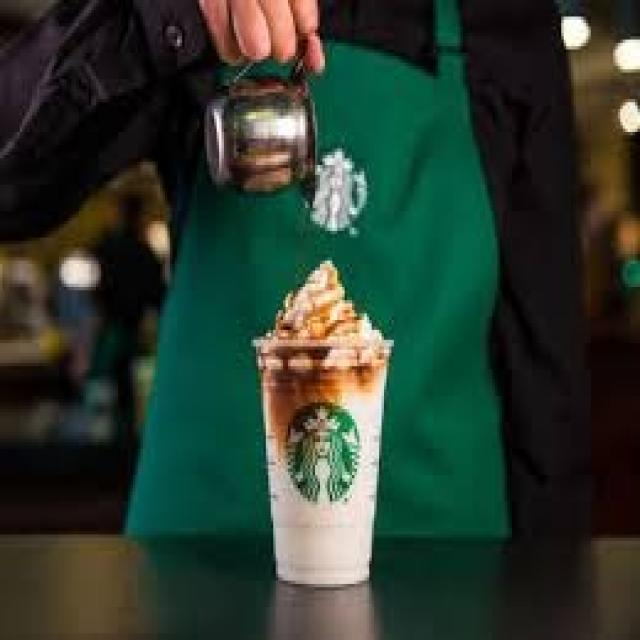starbucks: (276, 401, 366, 504), (308, 149, 370, 232)
